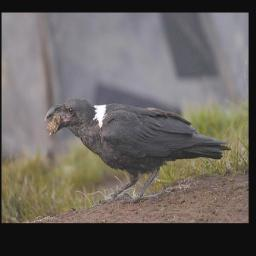Crow: (43, 94, 233, 207)
